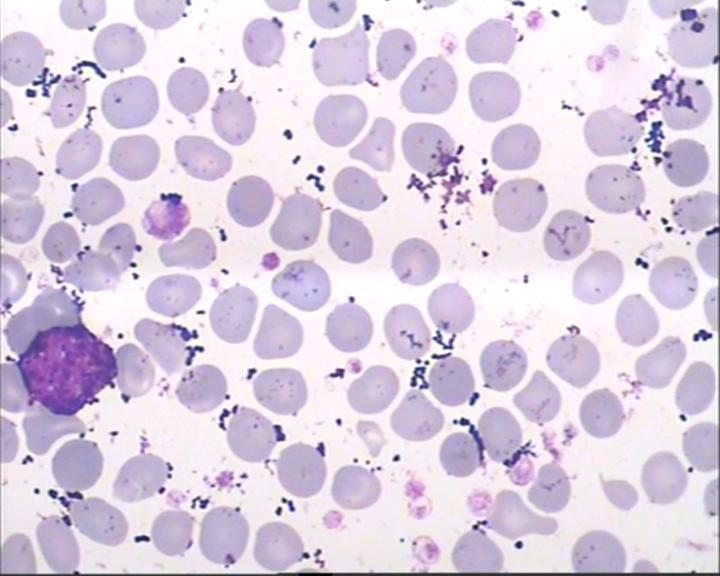baso: (11, 325, 123, 420)
